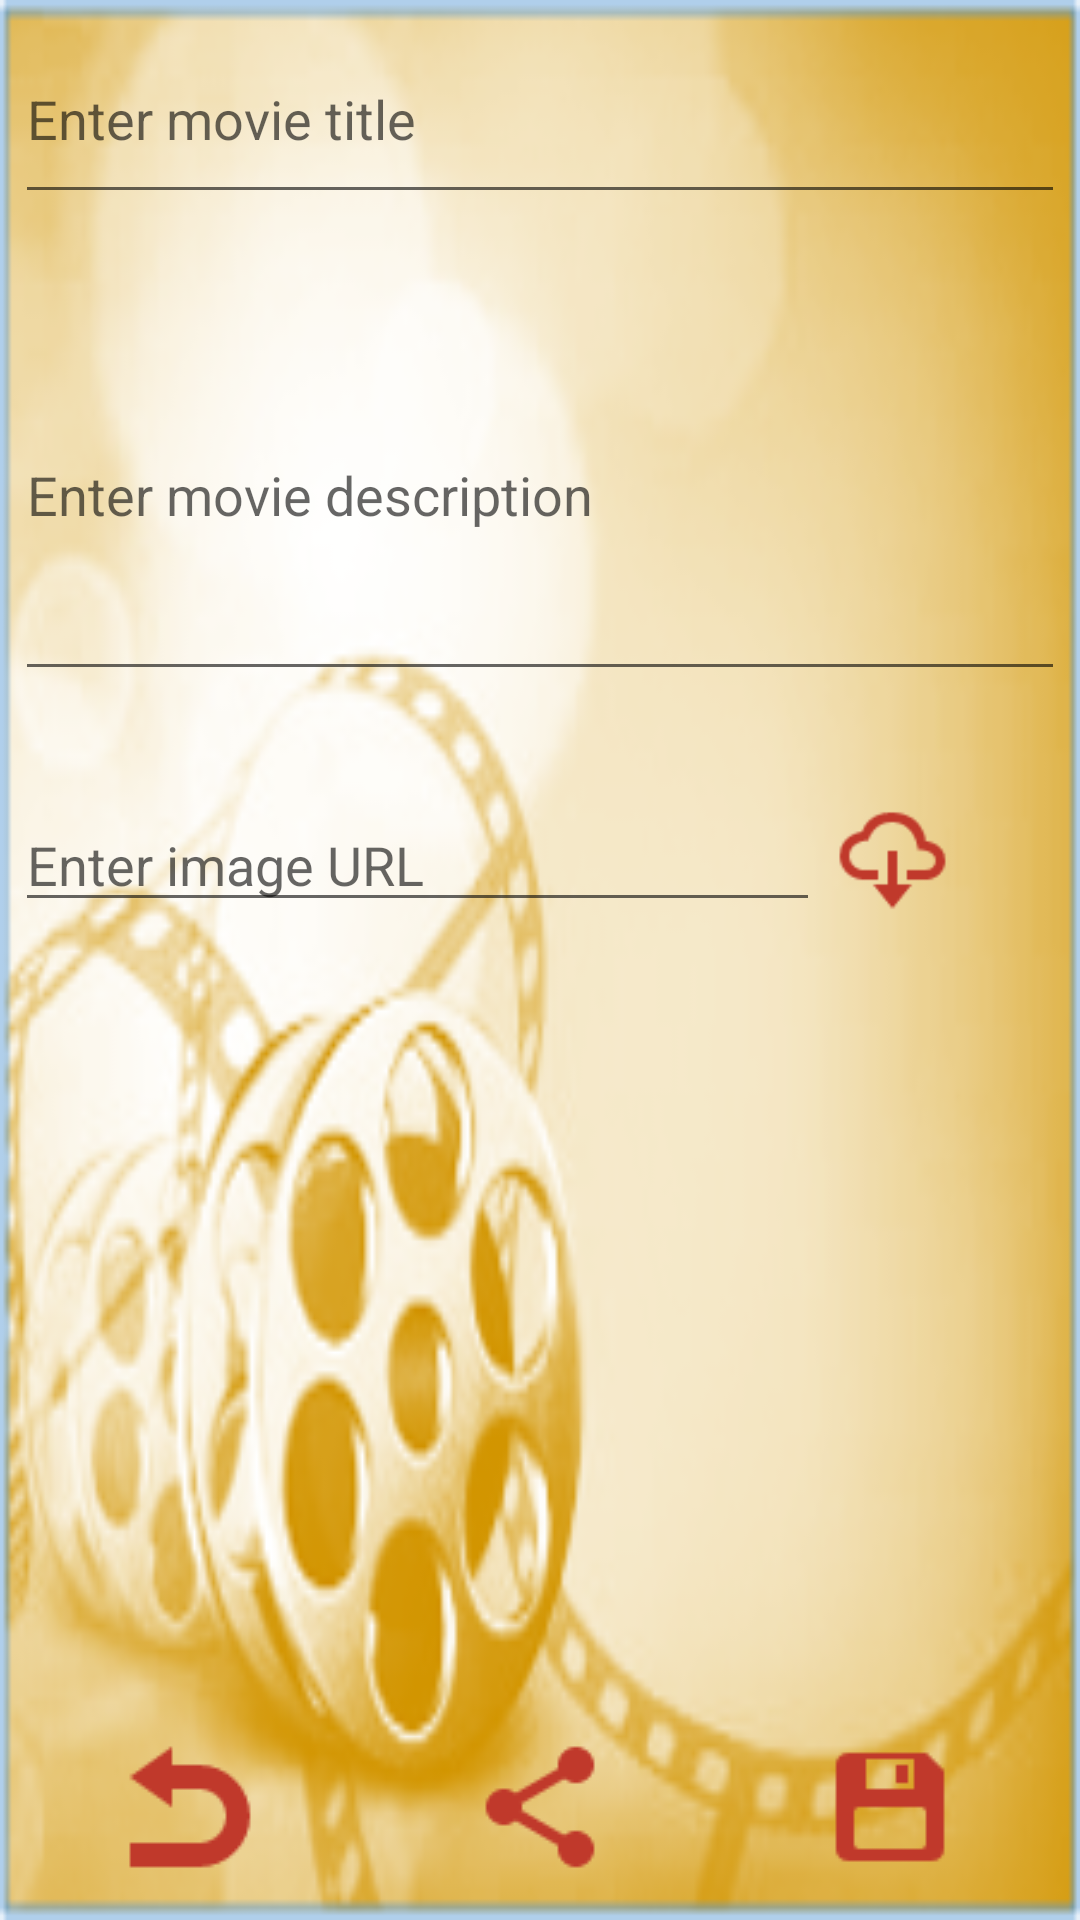

Point at icon controls on the screen. Image size 1080×1920, points as [x,y].
downloading: [892,860]
